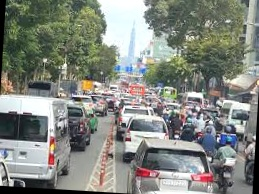Bien-so: (161, 177, 189, 187), (223, 170, 231, 178)
